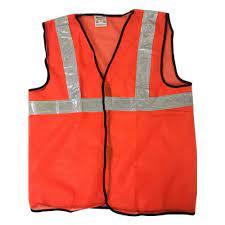Jacket: (25, 9, 201, 218)
